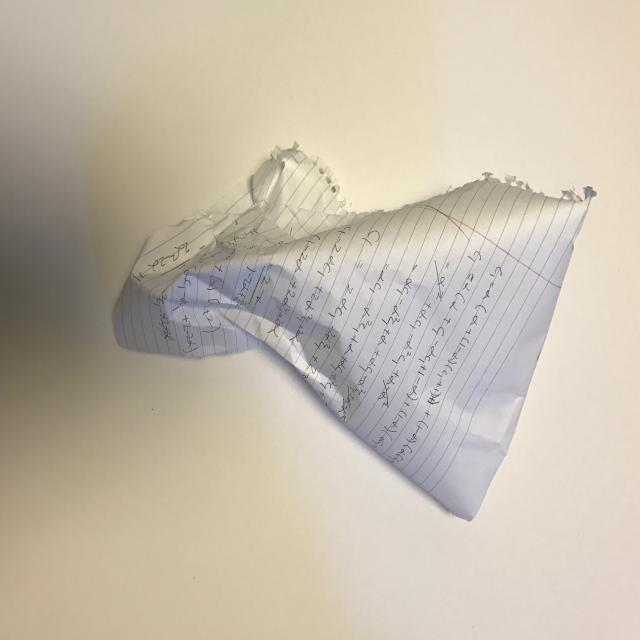paper: (111, 141, 596, 521)
